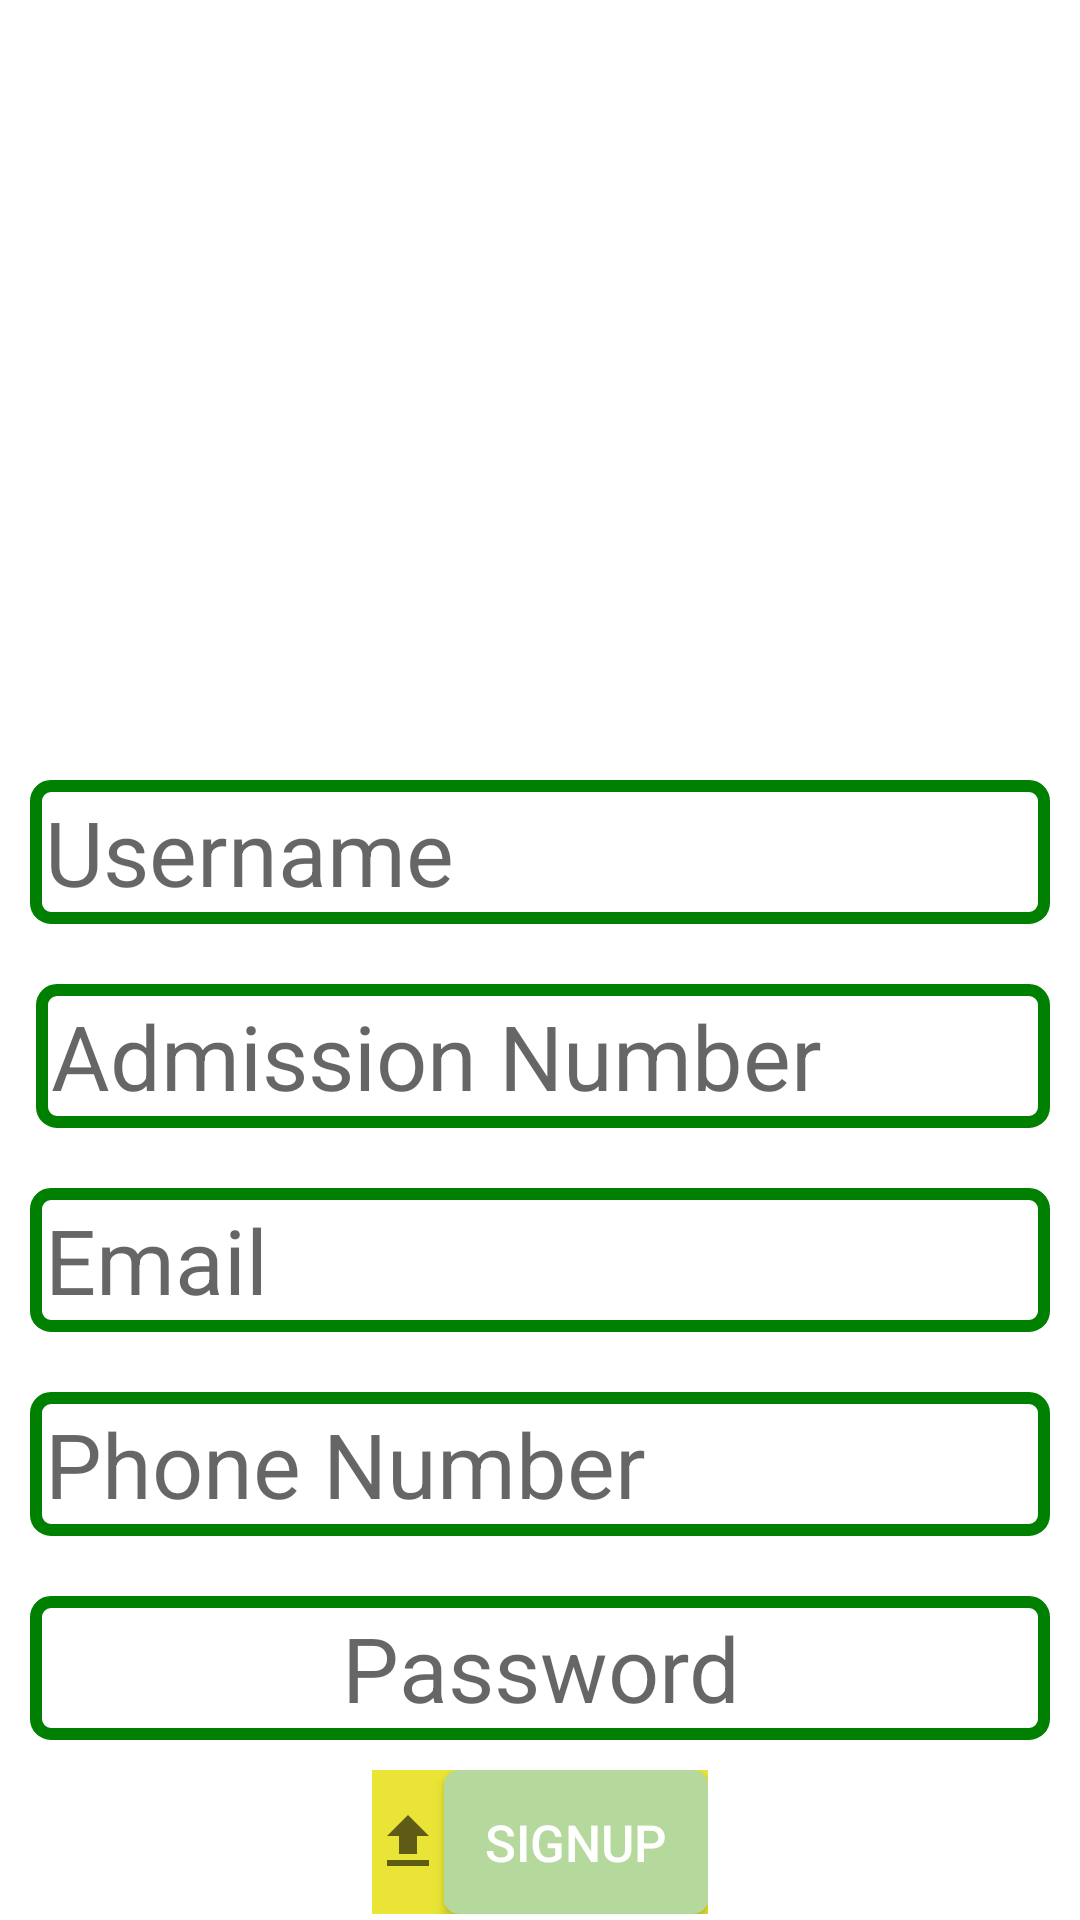

Icons on this 1080×1920 Android screen, each with the point to tap as [x,y]:
uploadicon: [408,1842]
